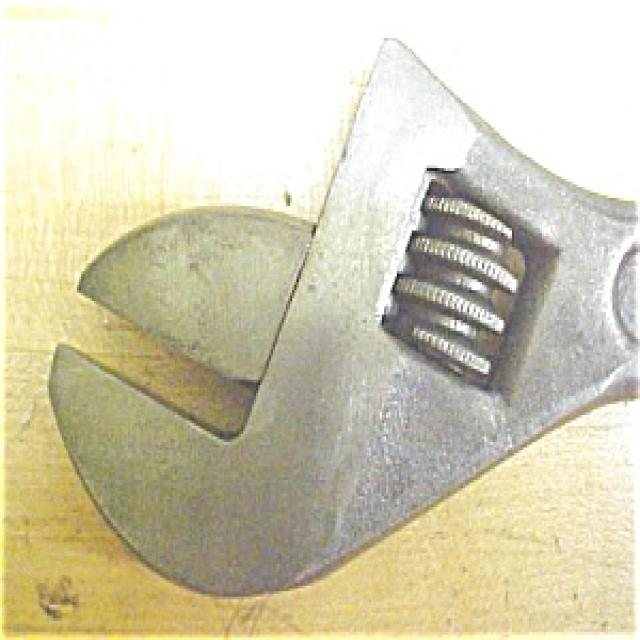wrench: (2, 11, 640, 640)
